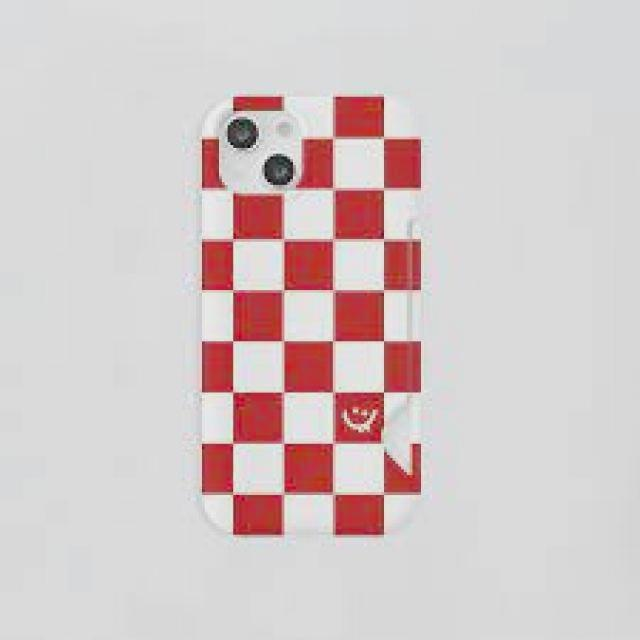lens: (220, 115, 299, 193)
phone: (194, 88, 431, 536)
